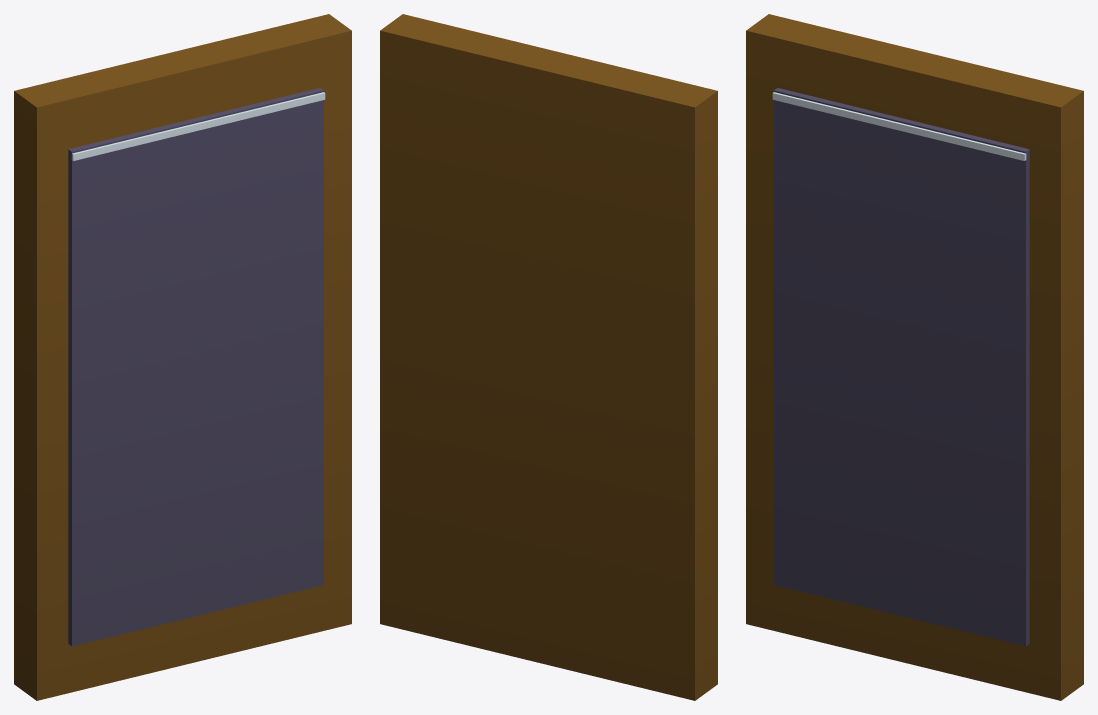
Rendered from gold_mirror.glb.
3 views of the same model, side by side, from view 1: azimuth 30°, elevation 25°; view 2: azimuth 150°, elevation 25°; view 3: azimuth 330°, elevation 25° (orthographic).
Visible parts, largest first — view 1: gold_mirror; view 2: gold_mirror; view 3: gold_mirror.
Part boxes in pixels (<box>): gold_mirror: <box>14,14,351,700</box>; gold_mirror: <box>380,14,717,700</box>; gold_mirror: <box>746,14,1083,700</box>.
Bounding box in the file's own units: 2 × 3.6 × 0.305.
